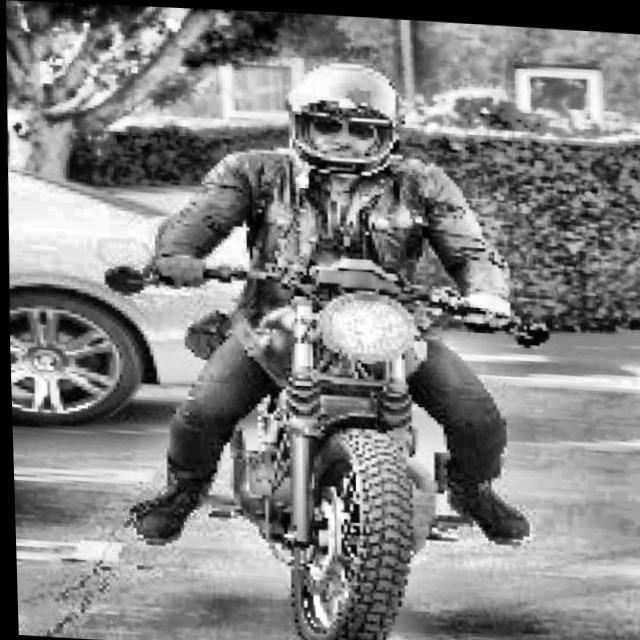motorcycle: (70, 234, 599, 640)
